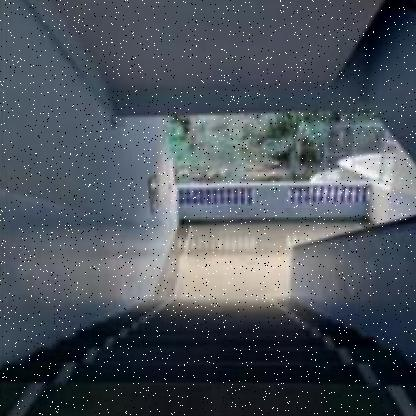stair_down: (92, 294, 304, 404)
